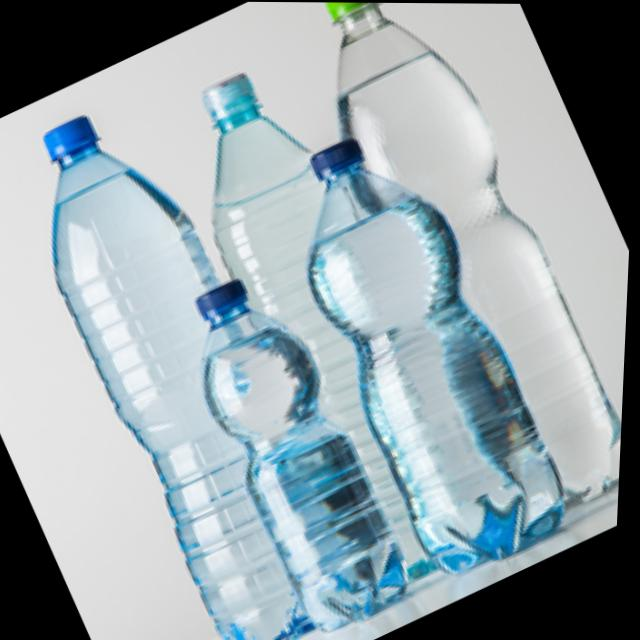plastic_water_bottles: (0, 90, 383, 640), (246, 107, 603, 591), (157, 254, 444, 640), (155, 35, 321, 204), (308, 2, 470, 126)
